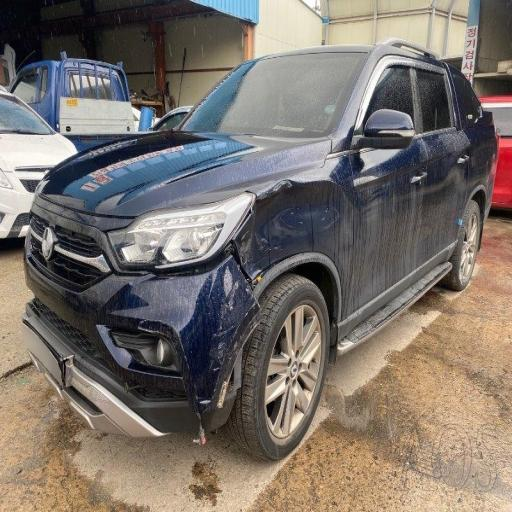broken: (165, 191, 293, 377)
